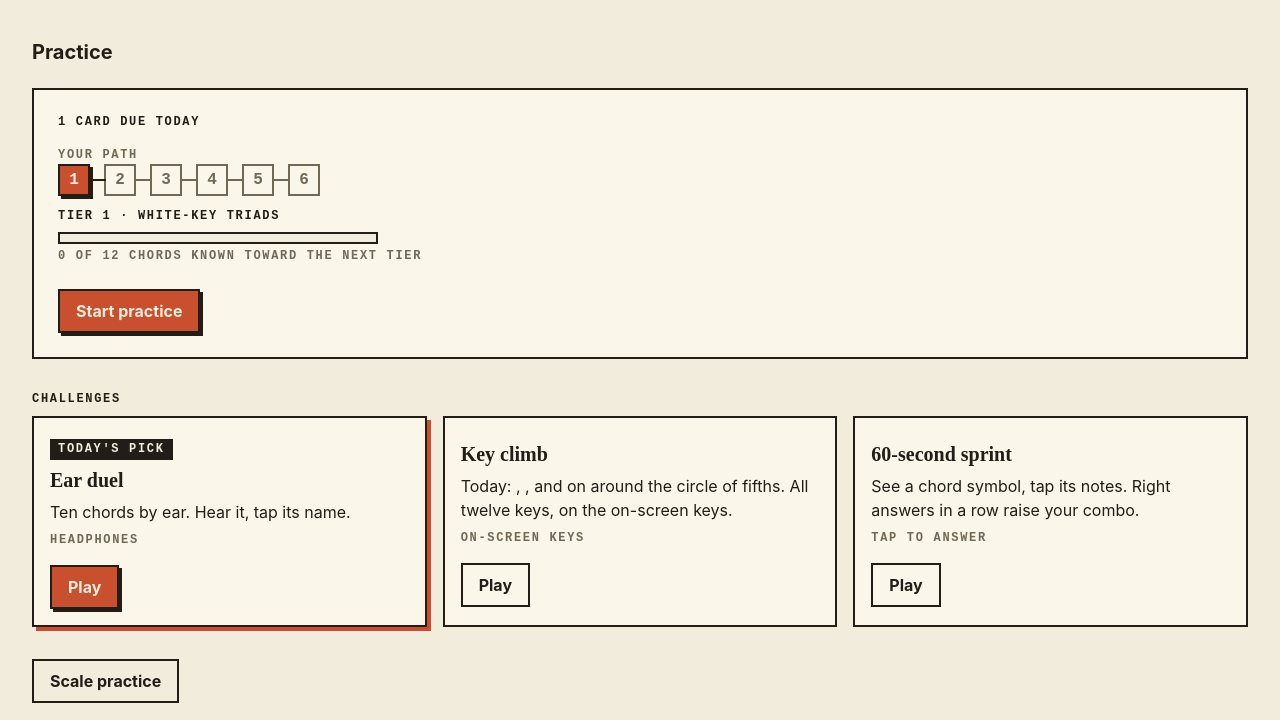
Test: a hear-name card asks the user to NAME what they hear › offers a Play control with no keyboard, plus the choice grid and its own cue label
Check: the element with test id "practice-pre-start" is shown, box x1=32 y1=88 x2=1248 y2=359
Click the button "Start practice" at x=129, y=311, box x1=58 y1=289 x2=200 y2=333
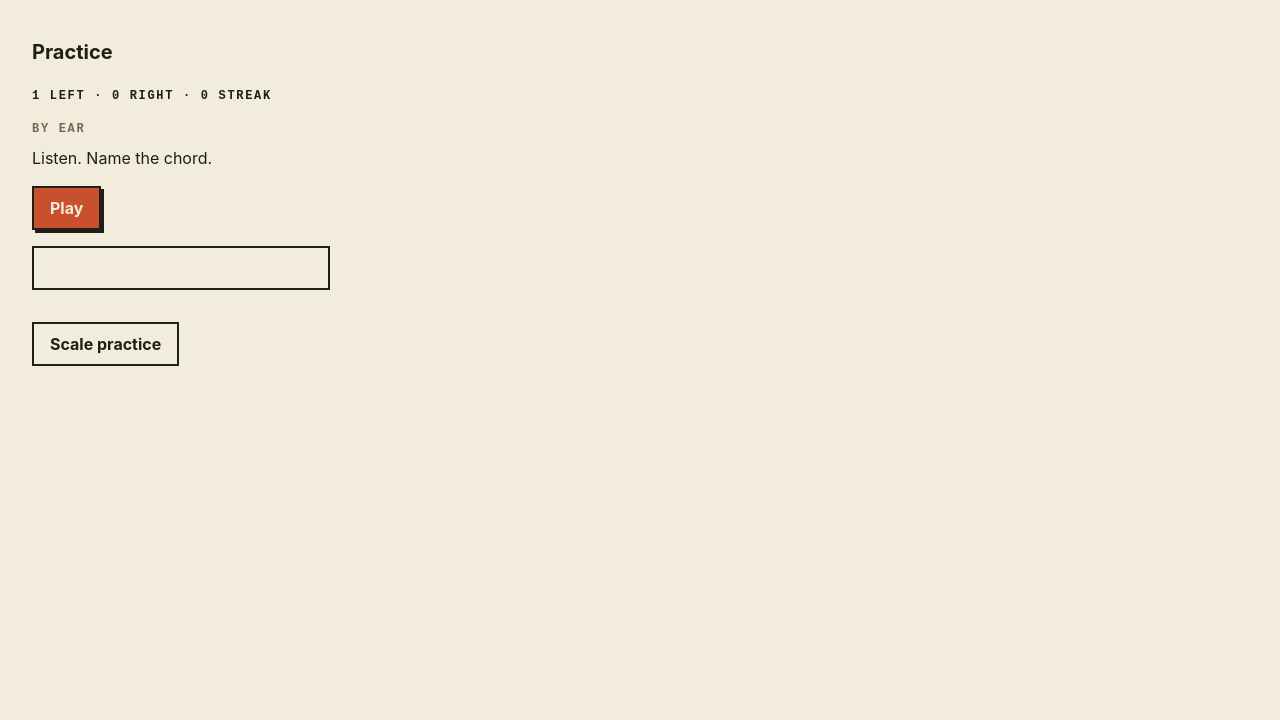
Check: the text with test id "question-source-tag" reads "BY EAR", box x1=32 y1=122 x2=85 y2=136
Check: the element with test id "choice-grid" is shown, box x1=32 y1=246 x2=330 y2=290
